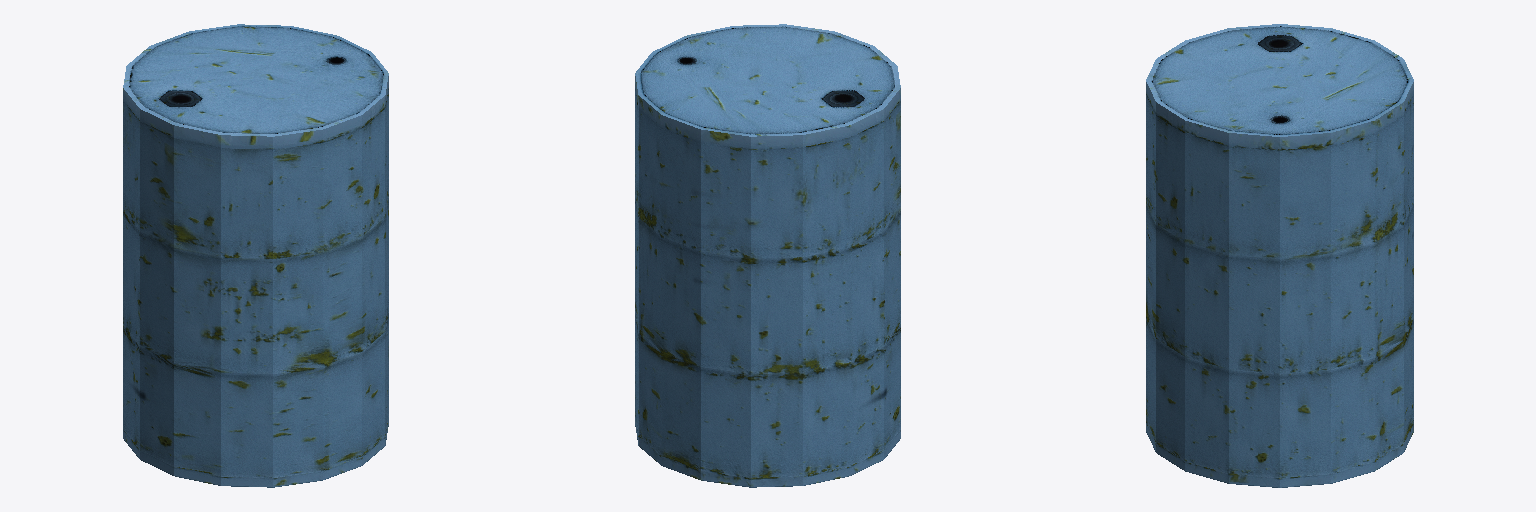
3 views of the same model, side by side, from view 1: azimuth 30°, elevation 25°; view 2: azimuth 150°, elevation 25°; view 3: azimuth 270°, elevation 25° (orthographic).
Parts seen in each view (by area): view 1: colmesh-1_collisionmesh-1, barreloil1_barreloiloa6; view 2: colmesh-1_collisionmesh-1, barreloil1_barreloiloa6; view 3: colmesh-1_collisionmesh-1.
Boxes of the visible parts, x1,y1,x2,y2 form: colmesh-1_collisionmesh-1: [123, 24, 388, 487]; barreloil1_barreloiloa6: [123, 90, 322, 486]; colmesh-1_collisionmesh-1: [635, 24, 900, 487]; barreloil1_barreloiloa6: [850, 110, 883, 474]; colmesh-1_collisionmesh-1: [1146, 24, 1413, 487].
Bounding box in the file's own units: 0.6108 × 0.8823 × 0.6108.
Materials: 2 (1 with a texture image).